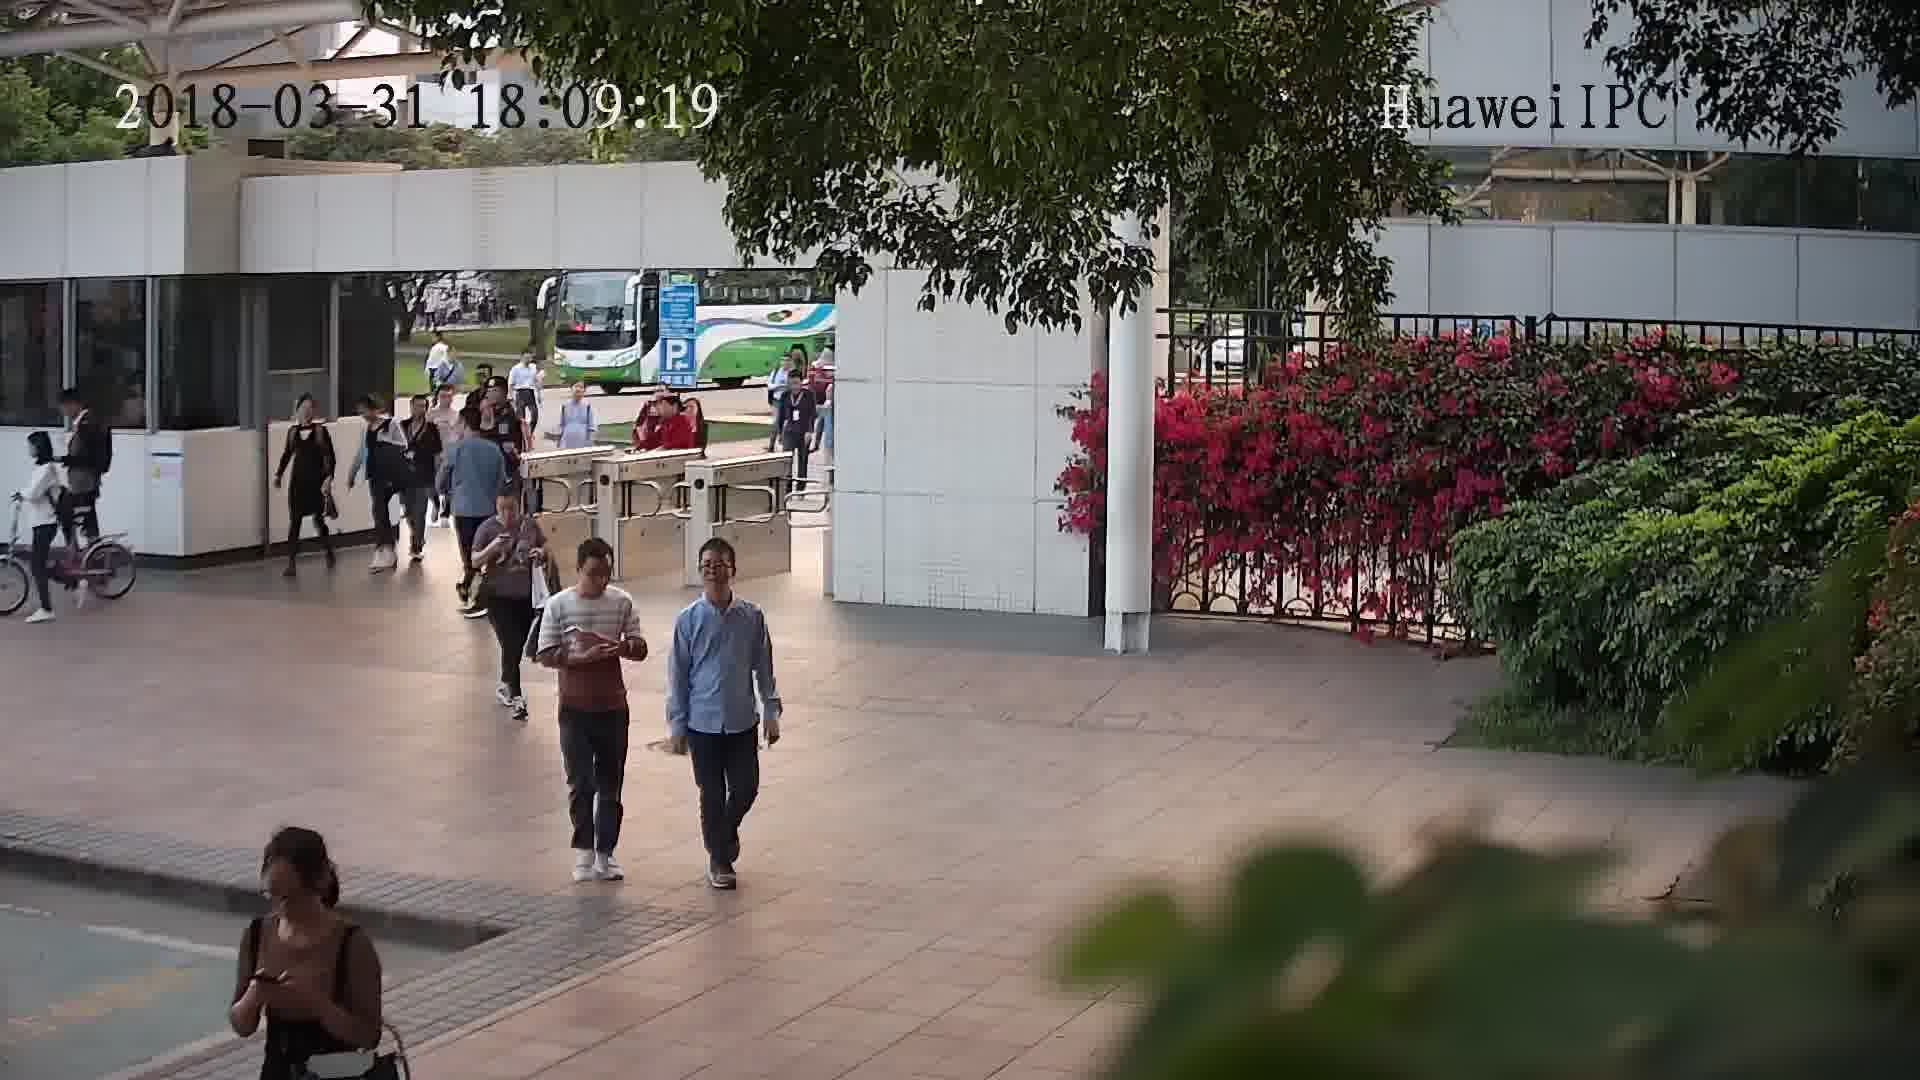face: (253, 853, 326, 926), (572, 548, 616, 600), (696, 550, 738, 592)
person: (244, 822, 372, 963), (676, 537, 765, 637), (547, 536, 633, 617), (479, 482, 542, 543), (480, 377, 532, 430), (23, 425, 70, 481), (282, 390, 329, 447), (450, 403, 497, 458), (58, 385, 104, 437), (349, 387, 394, 437), (392, 389, 437, 436), (639, 389, 689, 428), (556, 377, 599, 420), (427, 380, 464, 420), (432, 344, 469, 379), (783, 368, 817, 402), (425, 326, 457, 359), (512, 342, 541, 377), (770, 352, 798, 382)
